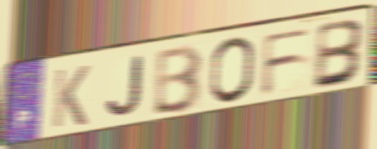B: (311, 17, 368, 92), (150, 42, 204, 118)
F: (259, 24, 315, 99)
J: (103, 53, 145, 121)
K: (50, 63, 92, 131)
O: (207, 35, 257, 107)
